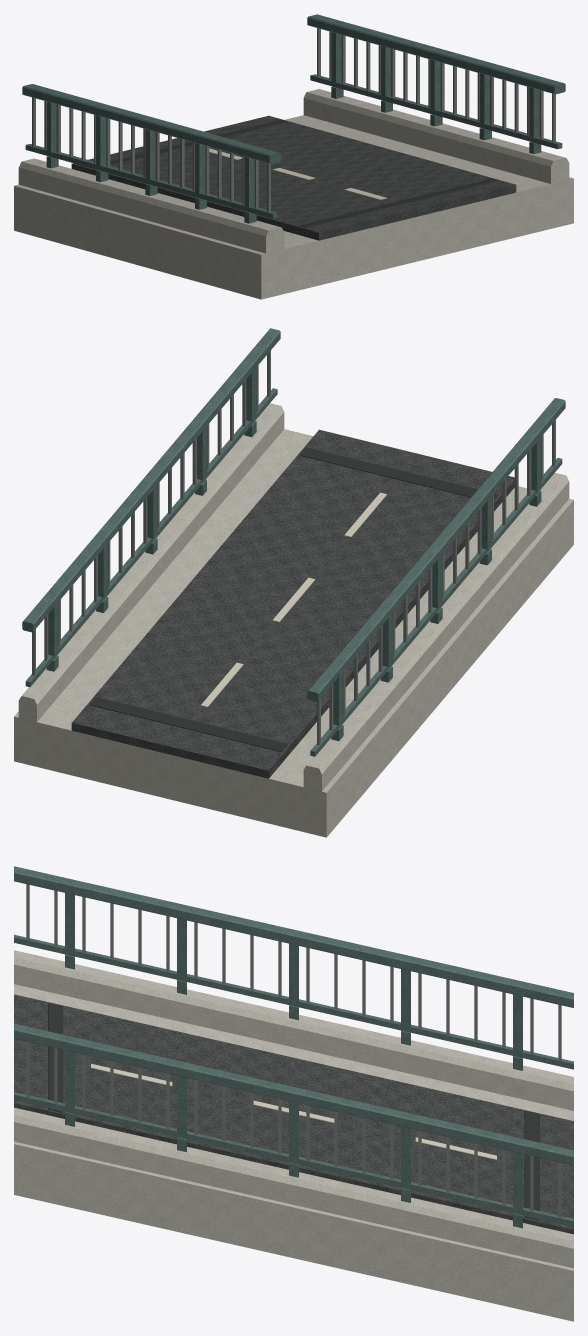
The model's file is BRG_LOCAL_RAMP_1x1_DOWN_050.glb.
3 views of the same model, one above another, from view 1: azimuth 30°, elevation 25°; view 2: azimuth 150°, elevation 25°; view 3: azimuth 270°, elevation 25° (orthographic). The views are drawn at different scales.
Visible parts, largest first — view 1: BRG_LOCAL_RAMP_1x1_DOWN_050_Visual; view 2: BRG_LOCAL_RAMP_1x1_DOWN_050_Visual; view 3: BRG_LOCAL_RAMP_1x1_DOWN_050_Visual.
Boxes of the visible parts, x1=… form: BRG_LOCAL_RAMP_1x1_DOWN_050_Visual: x1=14, y1=14, x2=573, y2=299; BRG_LOCAL_RAMP_1x1_DOWN_050_Visual: x1=14, y1=328, x2=573, y2=837; BRG_LOCAL_RAMP_1x1_DOWN_050_Visual: x1=14, y1=866, x2=573, y2=1321.
Size of what is drawn, in the model's own units: 1.46 by 1.14 by 2.
Materials: 6 (3 with a texture image).
